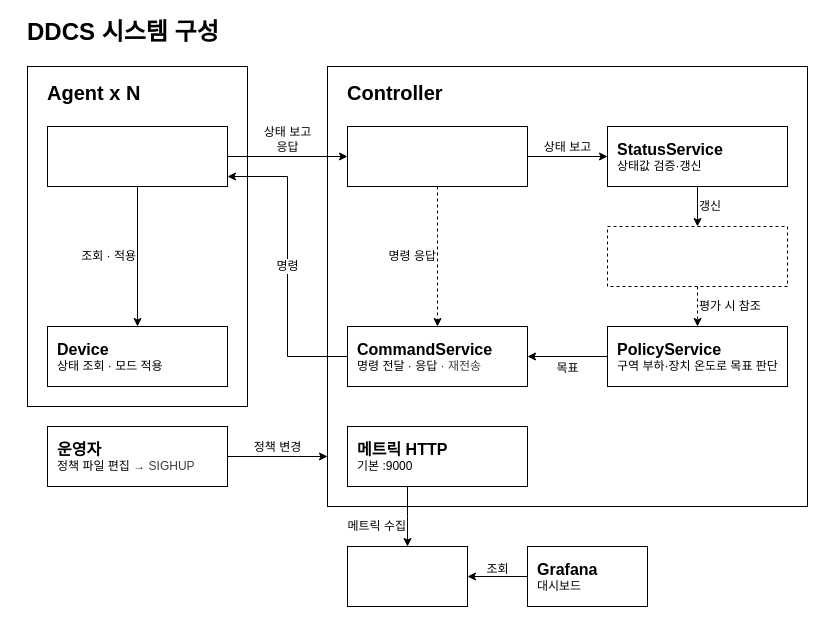
Image size: 825x624. Some labels were removed from this diagram. The box of each missing label's shape, as (x1, y1, x2, y2) in pixels:
DeviceShadow 장치별 상태 사본·메모리 보관: (606, 226, 788, 286)
Prometheus 메트릭 수집: (346, 546, 468, 606)
SessionService 등록 · 메시지 분배: (346, 126, 528, 186)
SessionService 상태 보고 · 명령 처리: (46, 126, 228, 186)
